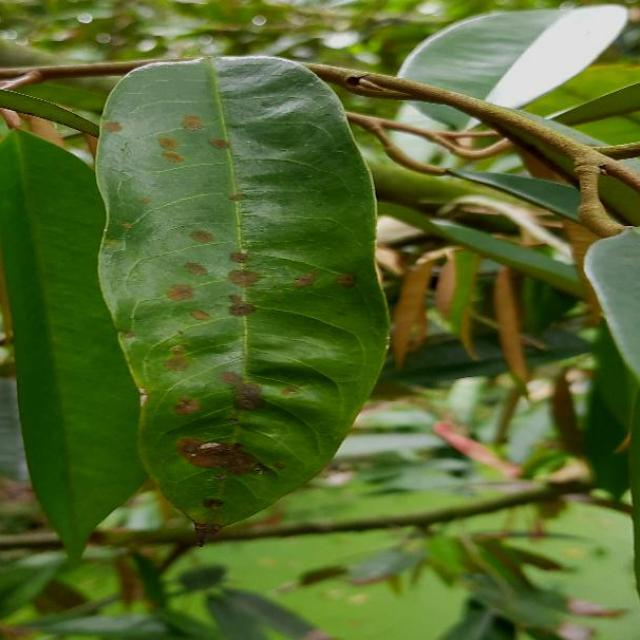Algal Leaf Spot: (85, 47, 402, 561)
